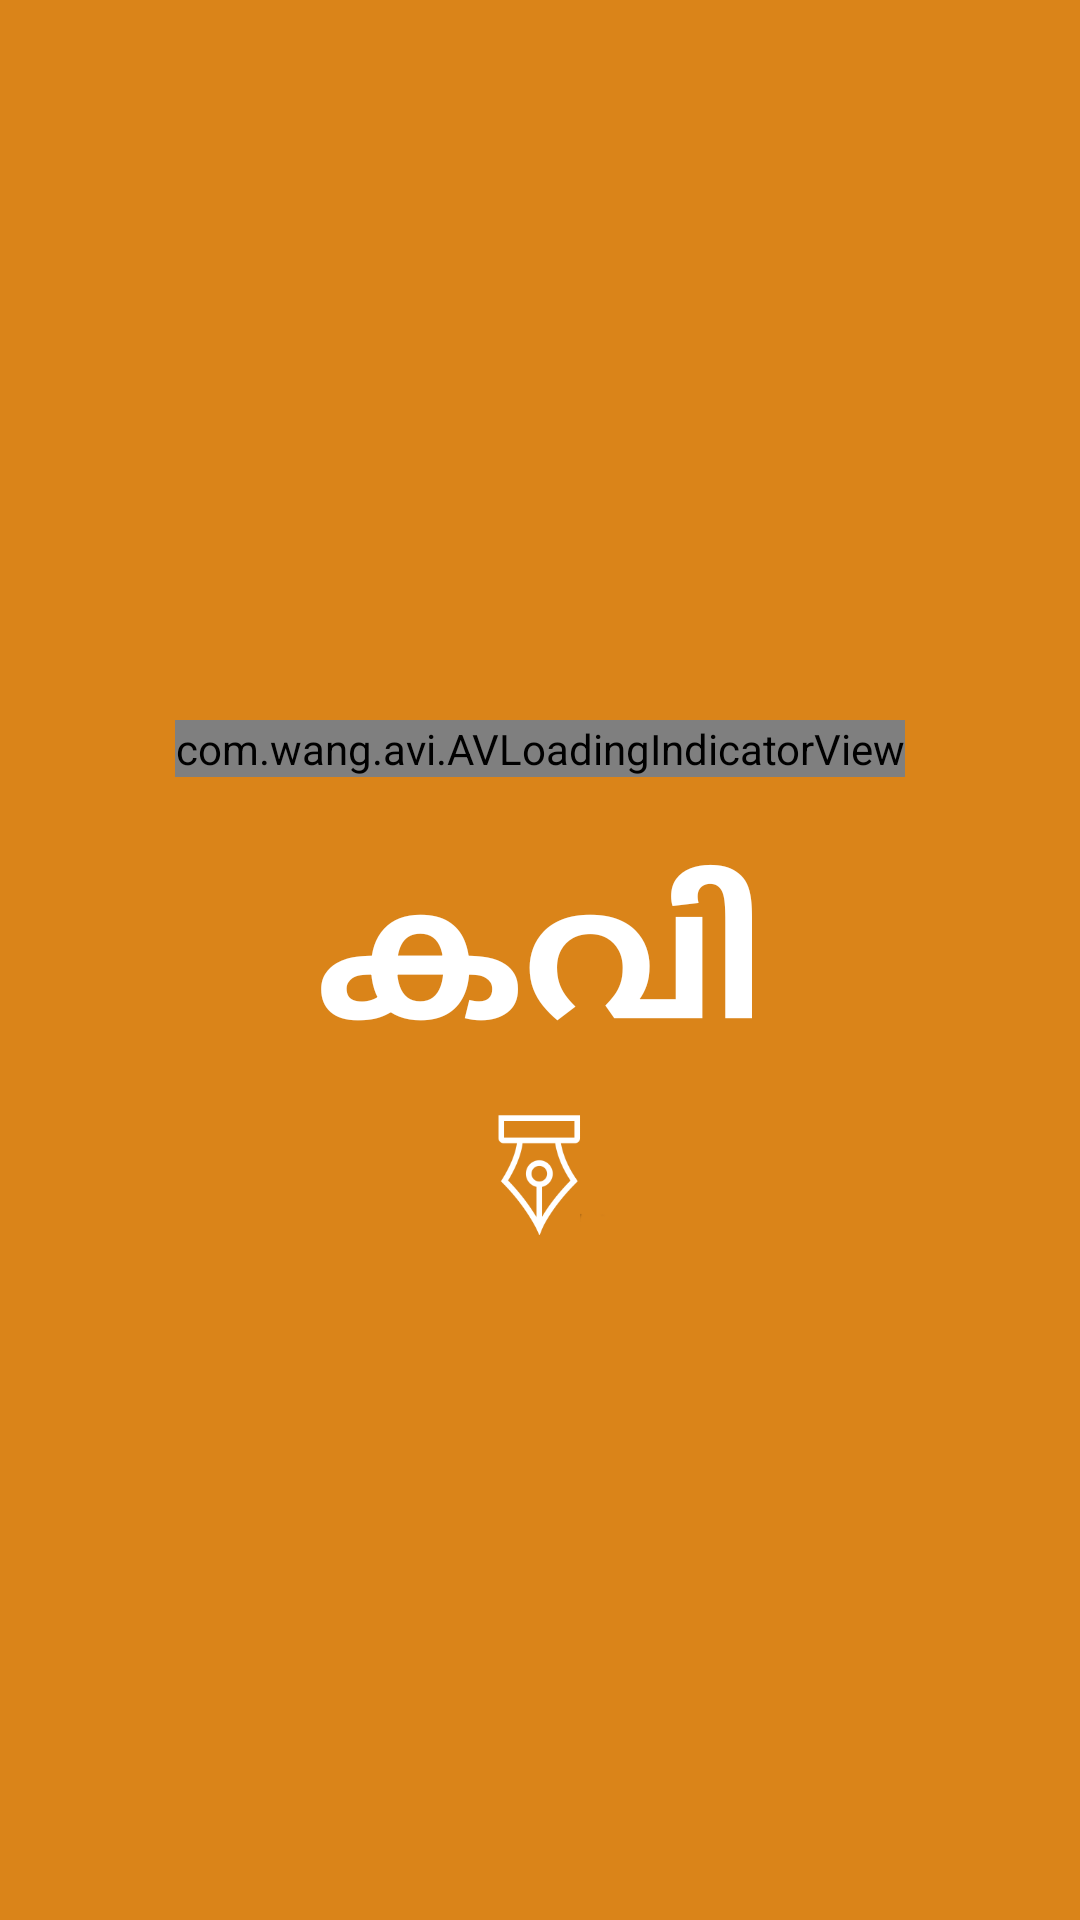

Icons on this 1080 × 1920 Android screen, each with its box as (x1, y1, x2, y2):
pen: (498, 1115, 581, 1235)
